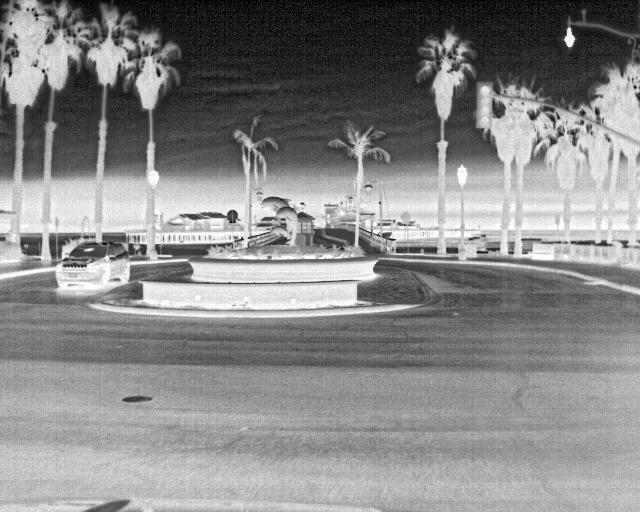car: (54, 241, 131, 292)
